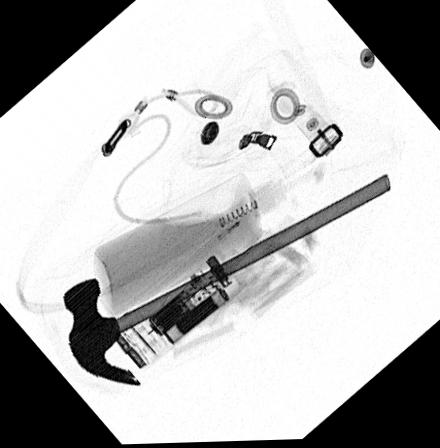Hammer: (60, 175, 391, 386)
